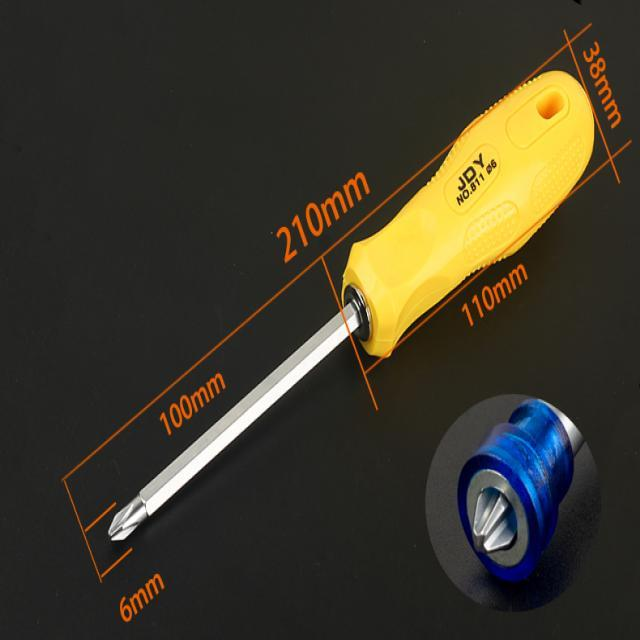screwdriver: (105, 67, 597, 550)
